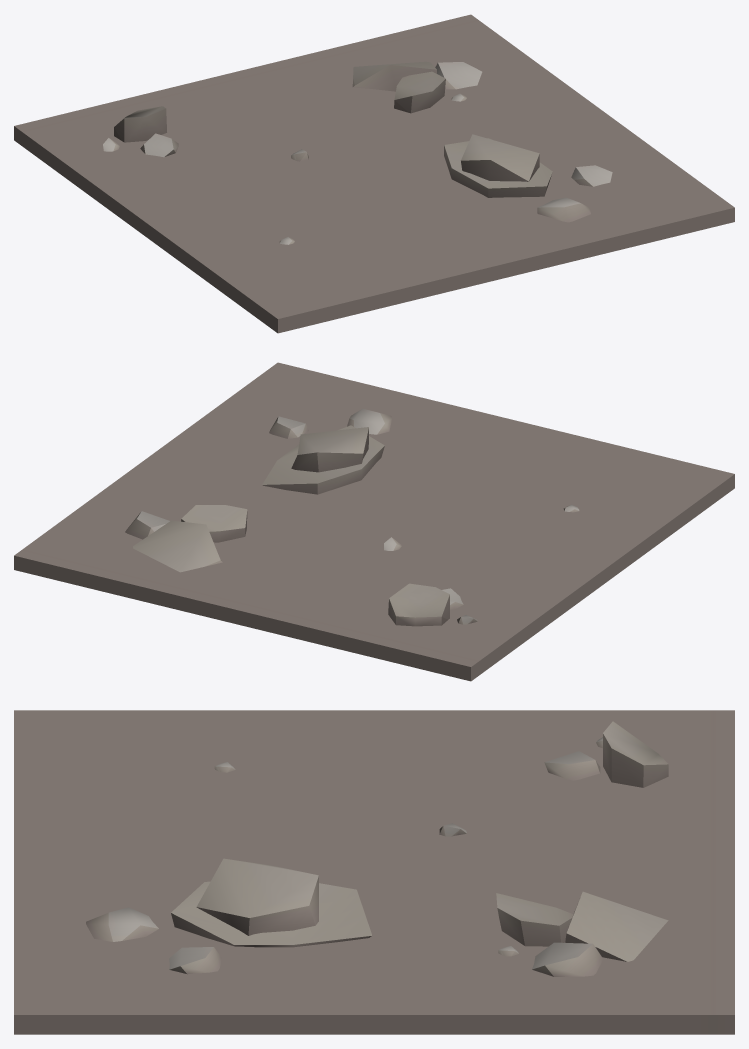
File: floor_dirt_large_rocky.glb
3 views of the same model, one above another, from view 1: azimuth 30°, elevation 25°; view 2: azimuth 150°, elevation 25°; view 3: azimuth 270°, elevation 25° (orthographic). The views are drawn at different scales.
Parts seen in each view (by area): view 1: floor_dirt_large_rocky; view 2: floor_dirt_large_rocky; view 3: floor_dirt_large_rocky.
Boxes of the visible parts, box(x1,y1,x2,y2) form: floor_dirt_large_rocky: box(14, 14, 734, 333); floor_dirt_large_rocky: box(14, 362, 734, 681); floor_dirt_large_rocky: box(14, 710, 734, 1034).
Bounding box in the file's own units: 4 × 0.3928 × 4.
1 material, 1 textured.
